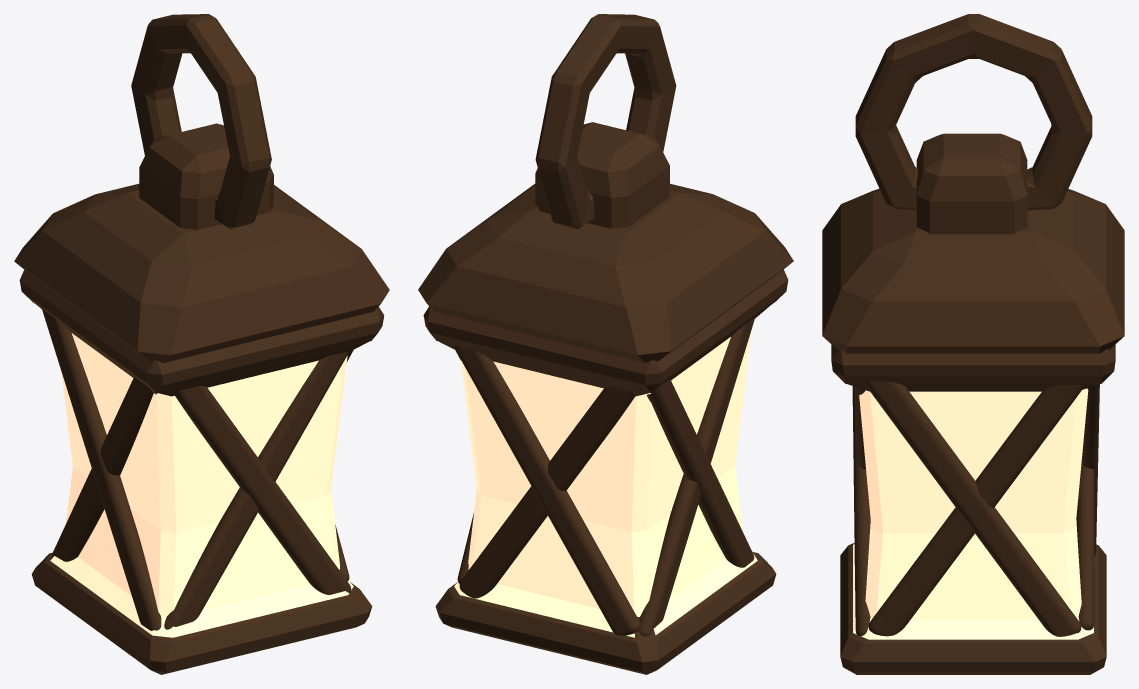
The model's file is Lantern.fbx.
3 renders of one model, left to right at view 1: azimuth 30°, elevation 25°; view 2: azimuth 150°, elevation 25°; view 3: azimuth 270°, elevation 25°, orthographic. The views are drawn at different scales.
Visible parts, largest first — view 1: Cube.056, Cube.055, Cylinder.010, Cube.062, Cube.053, Cube.063, Cube.058, Cube.059; view 2: Cube.056, Cube.055, Cylinder.010, Cube.061, Cube.053, Cube.060, Cube.059, Cube.058; view 3: Cube.056, Cube.055, Cylinder.010, Cube.053, Cube.057, Cube.054, Cube.062, Cube.060, Cube.061, Cube.063.
Boxes of the visible parts, x1,y1,x2,y2 form: Cube.056: (19,270,384,674); Cube.055: (14,183,389,363); Cylinder.010: (131,14,271,228); Cube.062: (175,386,351,594); Cube.053: (139,123,273,229); Cube.063: (164,352,348,629); Cube.058: (42,309,161,630); Cube.059: (52,377,153,561); Cube.056: (423,269,788,674); Cube.055: (418,183,793,362); Cylinder.010: (535,14,676,229); Cube.061: (453,346,640,635); Cube.053: (535,122,669,228); Cube.060: (459,386,635,598); Cube.059: (639,317,755,636); Cube.058: (646,379,754,567); Cube.056: (831,344,1115,674); Cube.055: (822,188,1124,353); Cylinder.010: (855,14,1092,210); Cube.053: (916,133,1027,234); Cube.057: (864,381,1081,636); Cube.054: (868,384,1083,636); Cube.062: (852,386,870,636); Cube.060: (1076,464,1094,630); Cube.061: (1081,384,1099,555); Cube.063: (854,387,865,469).
Size of the model in its own units: 20.98 by 46.92 by 21.18.
